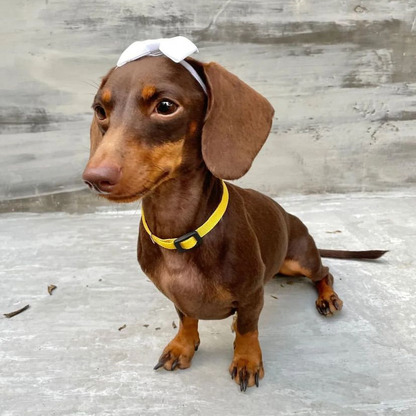dachshund: (66, 19, 366, 379)
